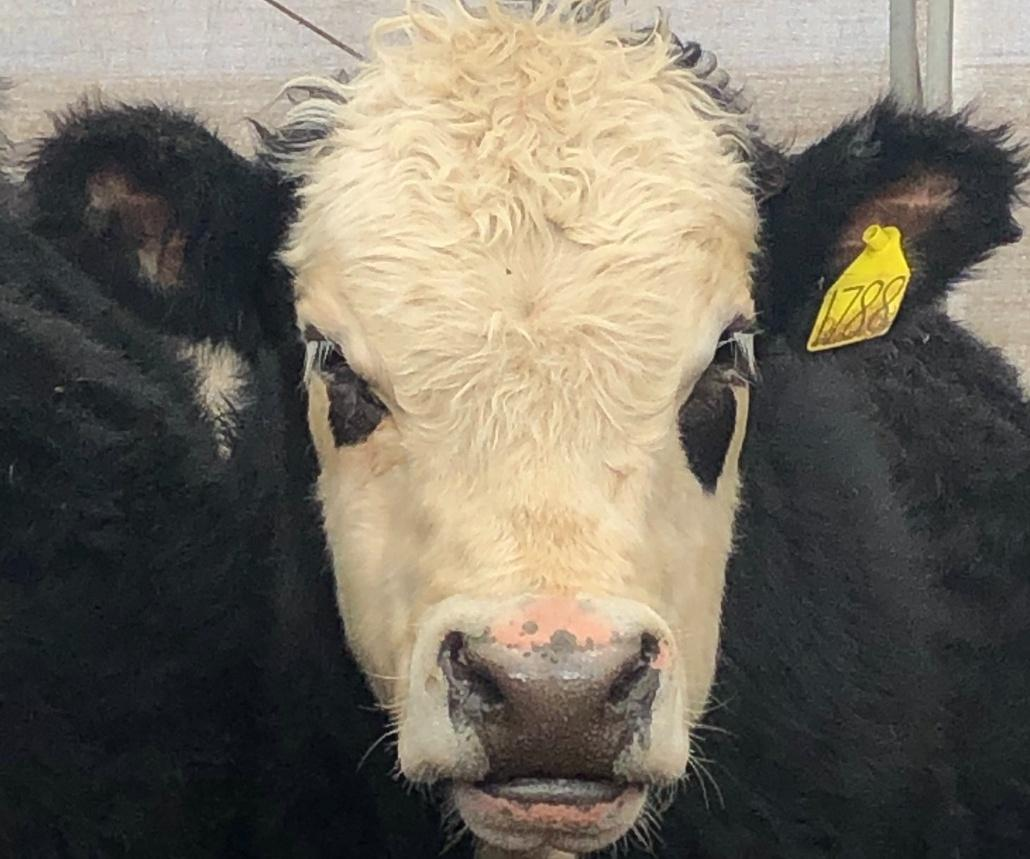muzzles: (396, 606, 696, 856)
